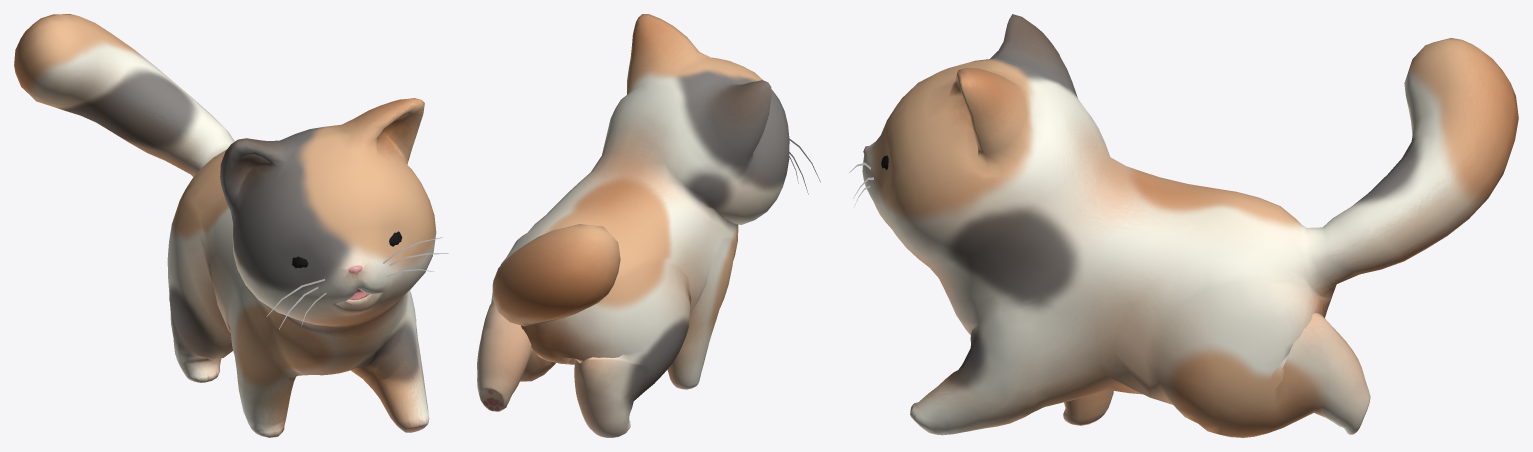
File: gato2-teste.obj
3 renders of one model, left to right at view 1: azimuth 30°, elevation 25°; view 2: azimuth 150°, elevation 25°; view 3: azimuth 270°, elevation 25°, orthographic. The views are drawn at different scales.
Visible parts, largest first — view 1: fat_cat_white1_Cat02_0; view 2: fat_cat_white1_Cat02_0; view 3: fat_cat_white1_Cat02_0.
Boxes of the visible parts, x1,y1,x2,y2 form: fat_cat_white1_Cat02_0: [14, 14, 448, 437]; fat_cat_white1_Cat02_0: [477, 14, 820, 437]; fat_cat_white1_Cat02_0: [849, 14, 1518, 437].
Size of the model in its own units: 0.3917 by 0.5908 by 0.9018.
Materials: 1 (1 with a texture image).
